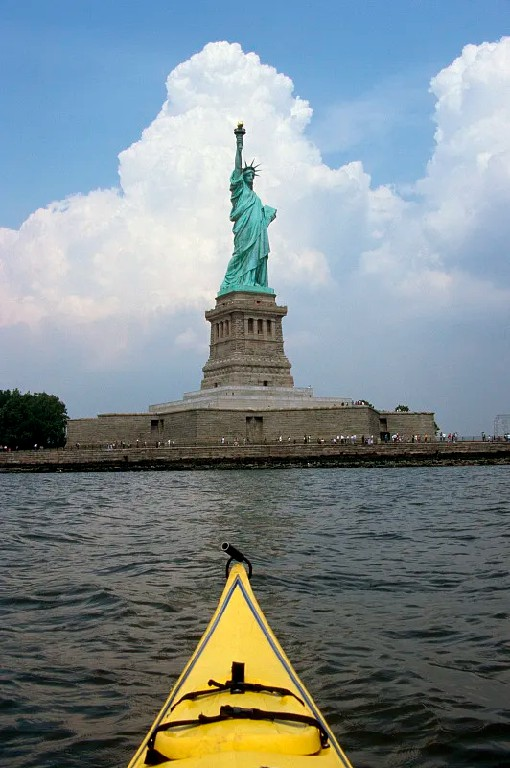SL: (200, 123, 295, 388)
